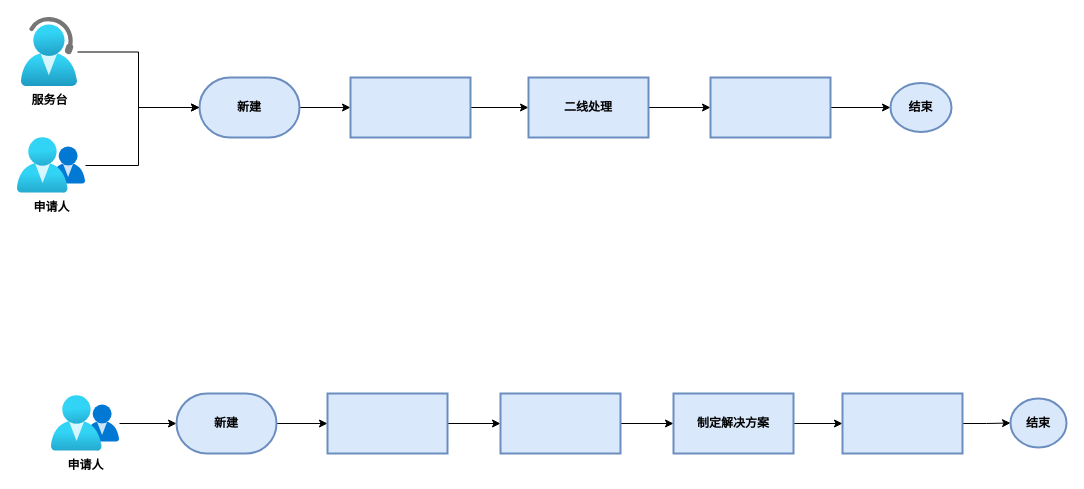
This 1084x489 diagram has some shape labels left out. Here are the shapes that lost their labels. From the top down, the centre of each, then its label:
the point at 410,107: 一线处理
the point at 770,107: 事件关闭
the point at 387,423: 问题评估
the point at 560,423: 调查原因
the point at 902,423: 解决问题
